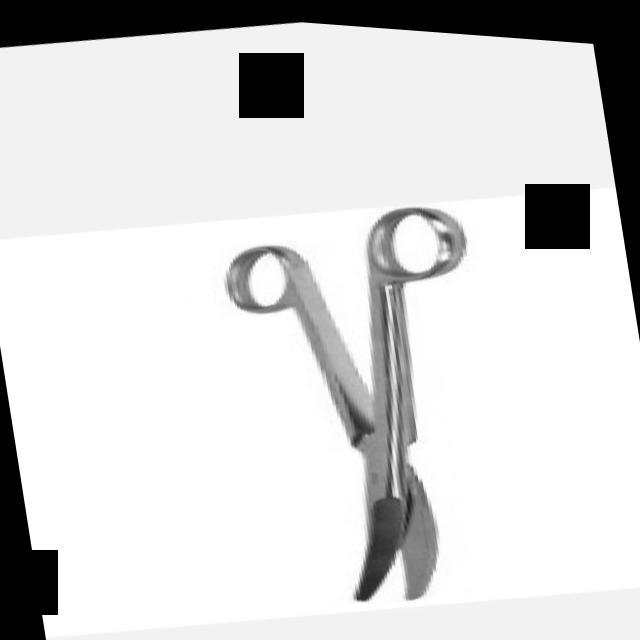Curved Mayo: (203, 177, 535, 626)
